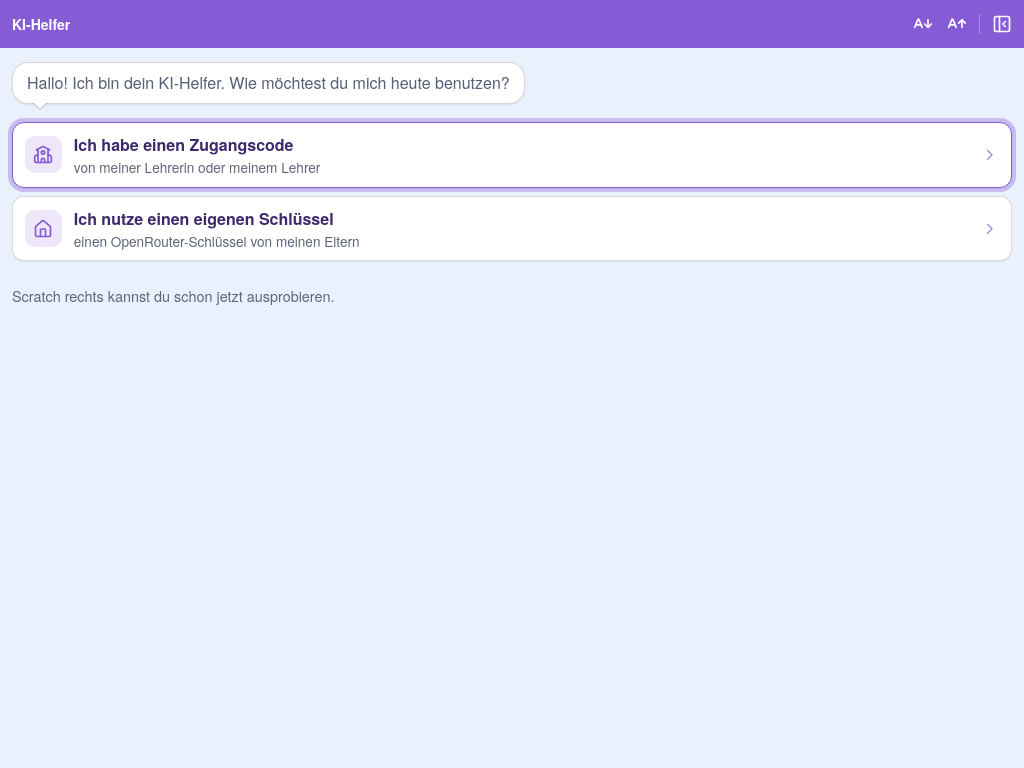
Test case: AccessGate › a school code in the key field is not sent
This screenshot has width=1024, height=768.
Click the button "Ich nutze einen eigenen Schlüssel". click: [43, 229]
box: top-left (12, 196), bottom-right (1012, 261)
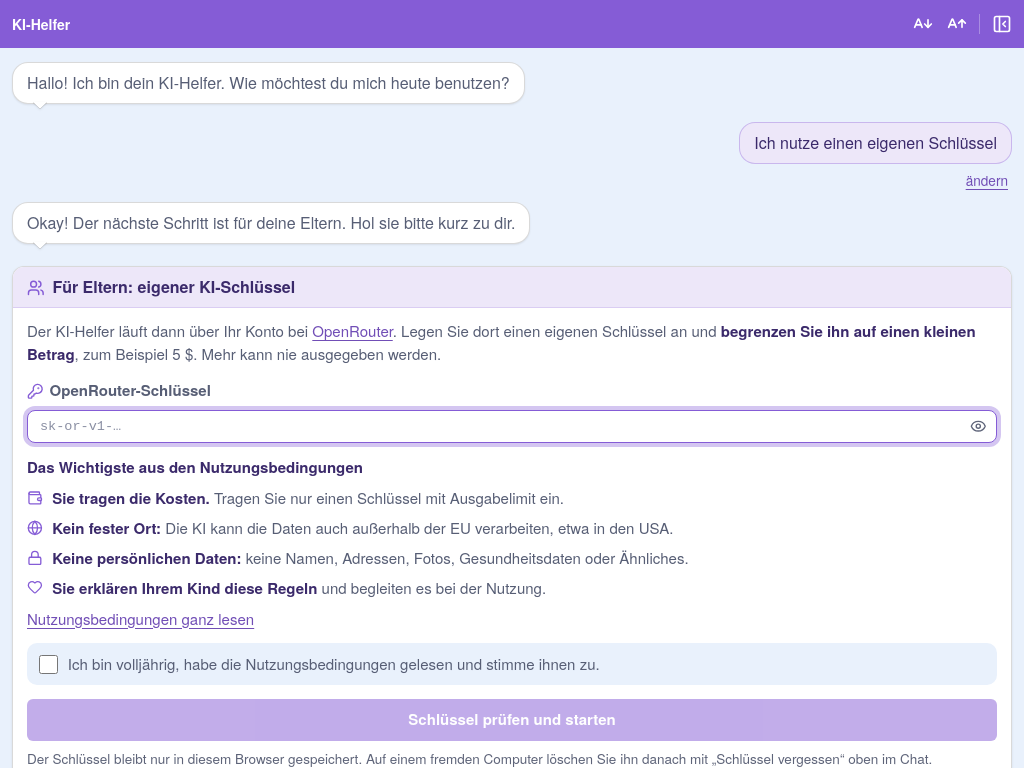
Click the checkbox labelled "volljährig". click: [48, 664]
box: top-left (39, 655), bottom-right (58, 674)
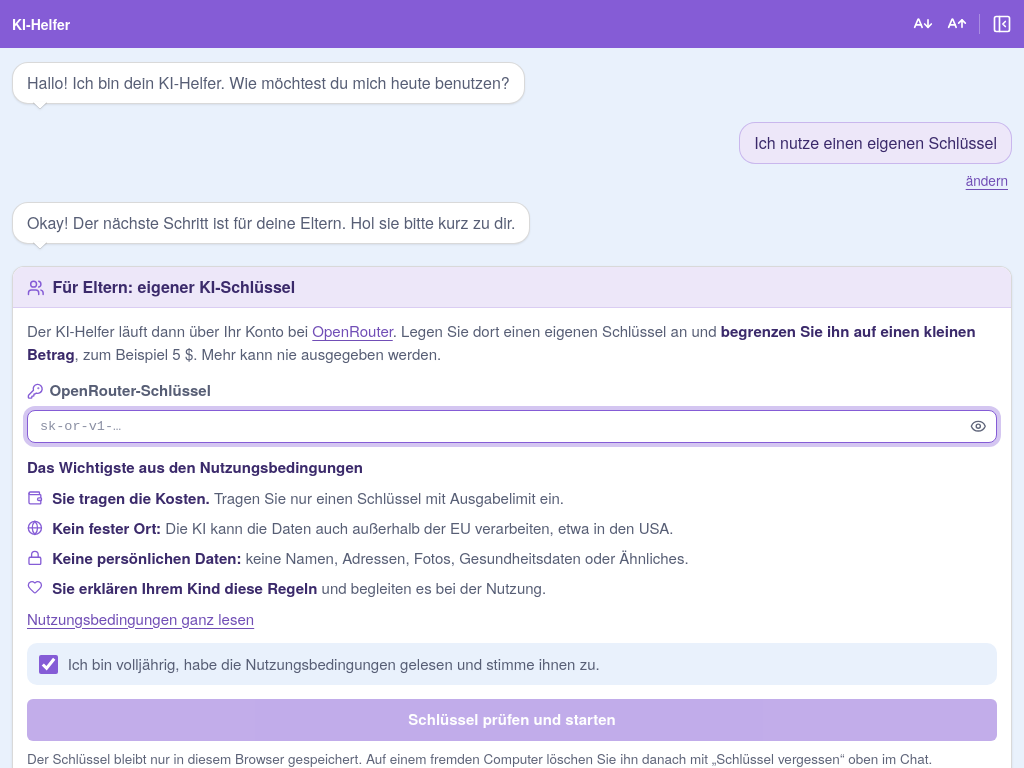
Type "schule1" into the password field labelled "OpenRouter-Schlüssel". click: [512, 427]
box: top-left (27, 410), bottom-right (997, 443)
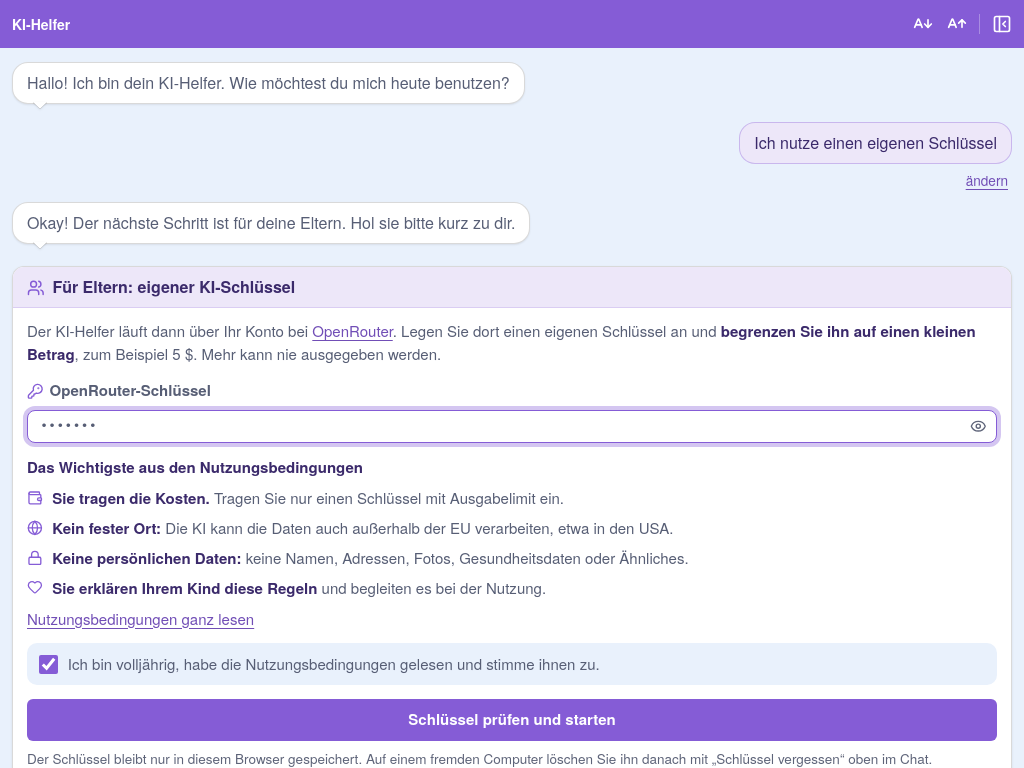
Click the button "Schlüssel prüfen und starten". click: [512, 720]
box: top-left (27, 699), bottom-right (997, 741)
(page scrolled)
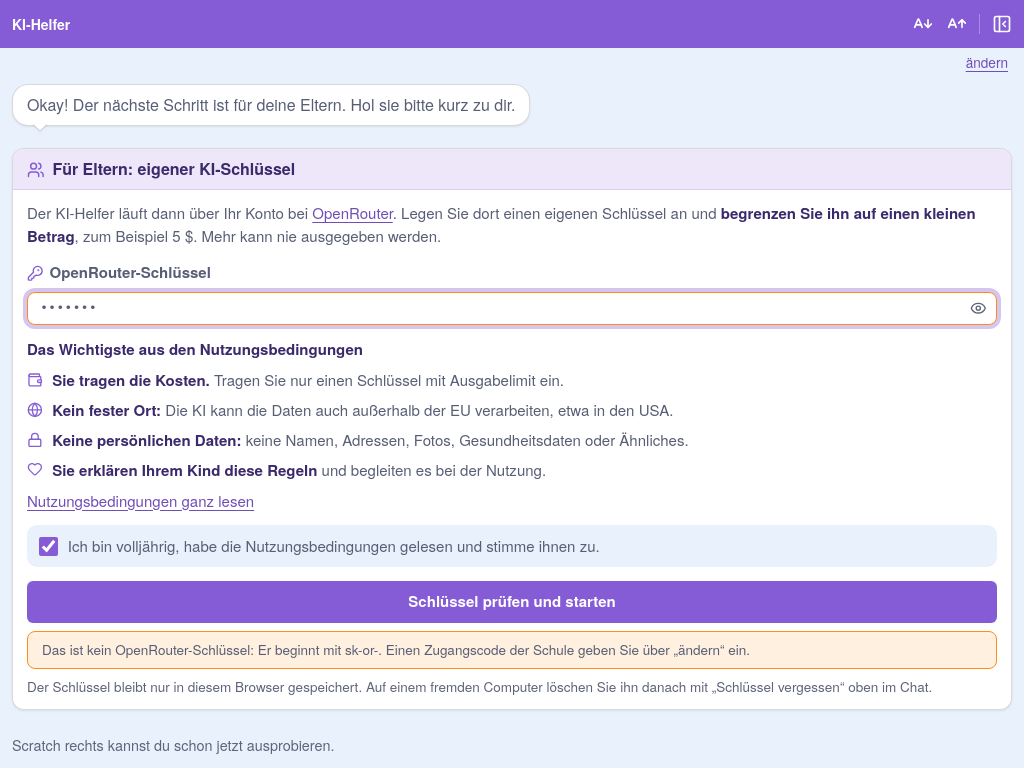
Check: the message shows "kein OpenRouter-Schlüssel", box top-left (42, 639), bottom-right (750, 659)
